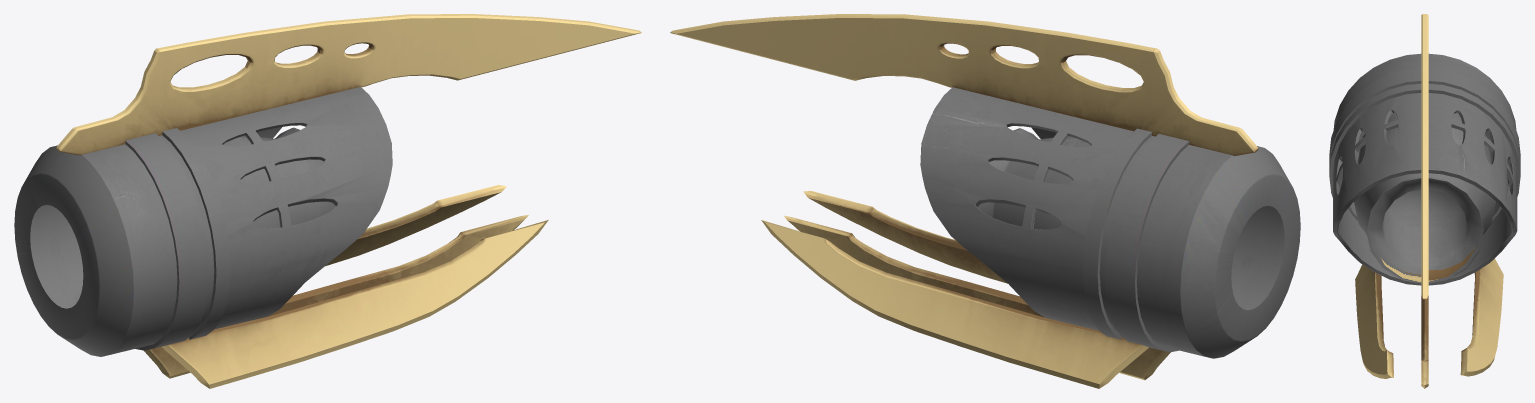
The model's file is guard_17_r_b.glb.
3 views of the same model, side by side, from view 1: azimuth 30°, elevation 25°; view 2: azimuth 150°, elevation 25°; view 3: azimuth 270°, elevation 25° (orthographic). The views are drawn at different scales.
Visible parts, largest first — view 1: guard_17_r_b_lod0; view 2: guard_17_r_b_lod0; view 3: guard_17_r_b_lod0.
Part boxes in pixels (x1,y1,x2,y2): guard_17_r_b_lod0: [14, 14, 641, 388]; guard_17_r_b_lod0: [670, 14, 1300, 388]; guard_17_r_b_lod0: [1329, 14, 1520, 388].
Size of what is drawn, in the model's own units: 0.1042 by 0.0567 by 0.0348.
1 material, 1 textured.
